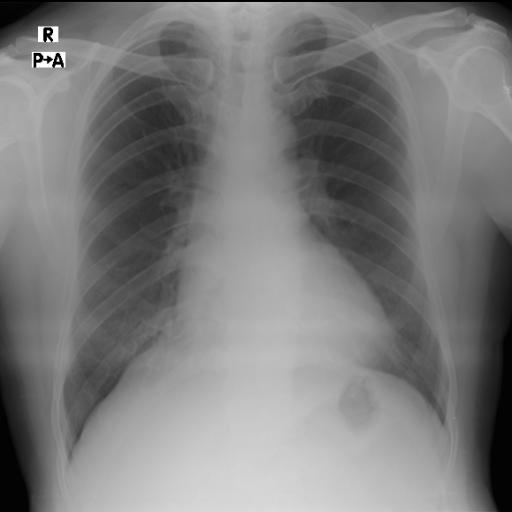kardiomegali: (49, 8, 459, 434)
